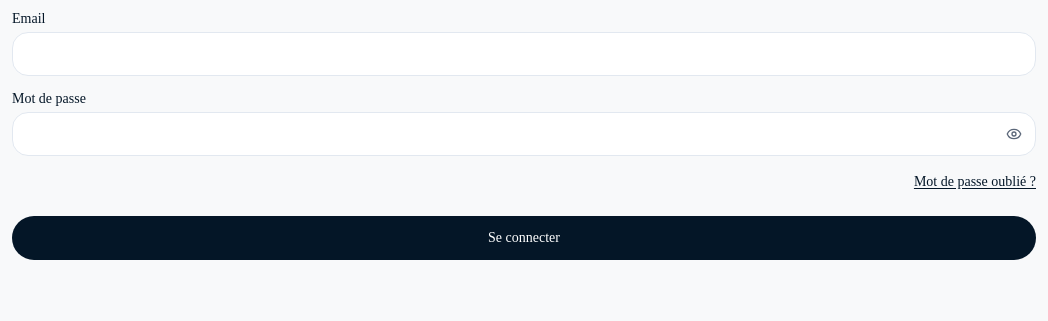
Test: LoginForm (UX-12, B-15) › shows an error under each invalid field, wired with aria-invalid and aria-describedby
Click the button "Se connecter" at (524, 238), box left=12, top=216, right=1036, bottom=260
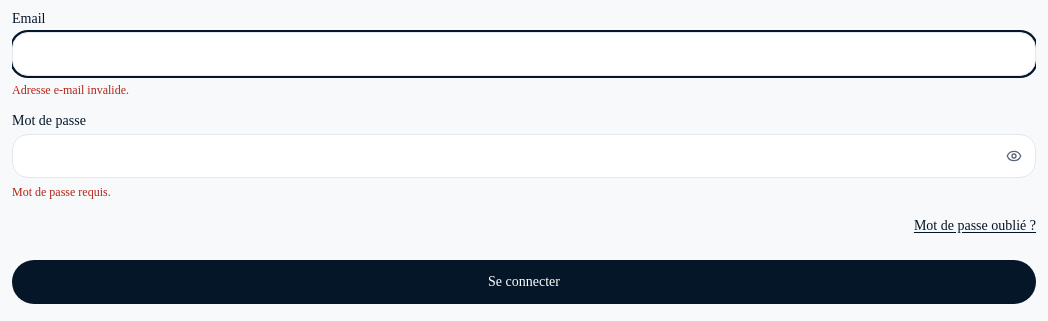
Now the text with id "email-error" reads "Adresse e-mail invalide.", box left=12, top=83, right=129, bottom=97
